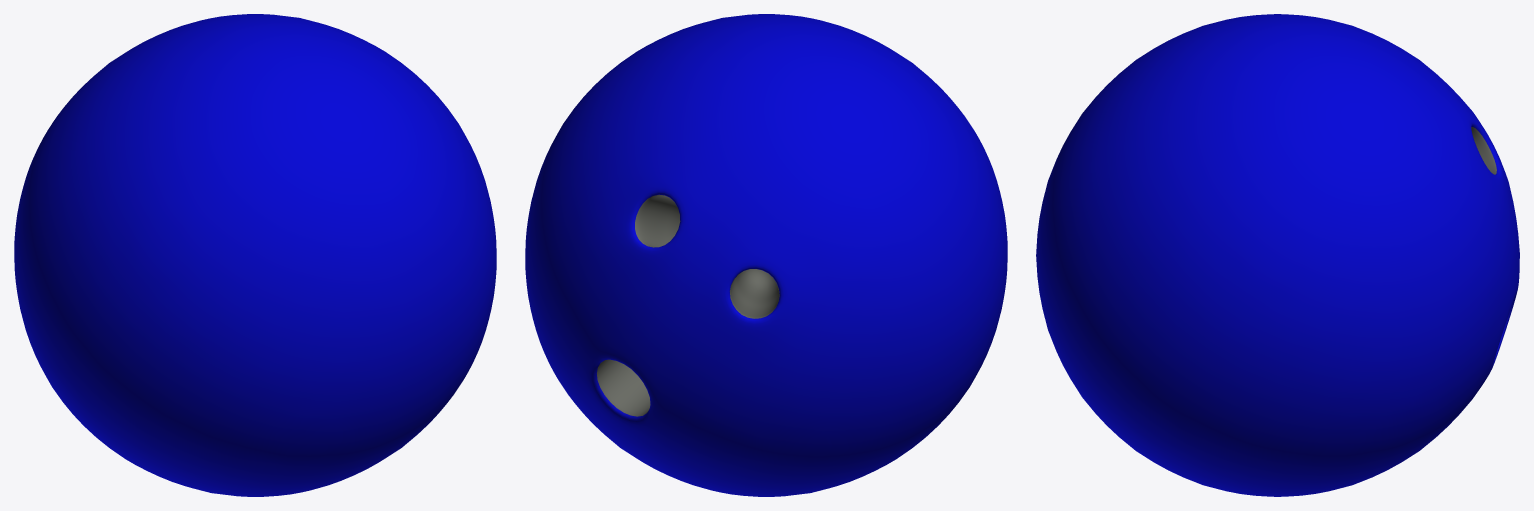
The model's file is bowlingBallRemapped.fbx.
The picture shows the model from 3 angles, left to right: view 1: azimuth 30°, elevation 25°; view 2: azimuth 150°, elevation 25°; view 3: azimuth 270°, elevation 25°; orthographic projection.
Visible parts, largest first — view 1: Icosphere; view 2: Icosphere; view 3: Icosphere.
Boxes of the visible parts, <box> form: Icosphere: <box>14,14,496,496</box>; Icosphere: <box>525,14,1007,496</box>; Icosphere: <box>1036,14,1519,496</box>.
Size of the model in its own units: 196 by 197 by 197.
